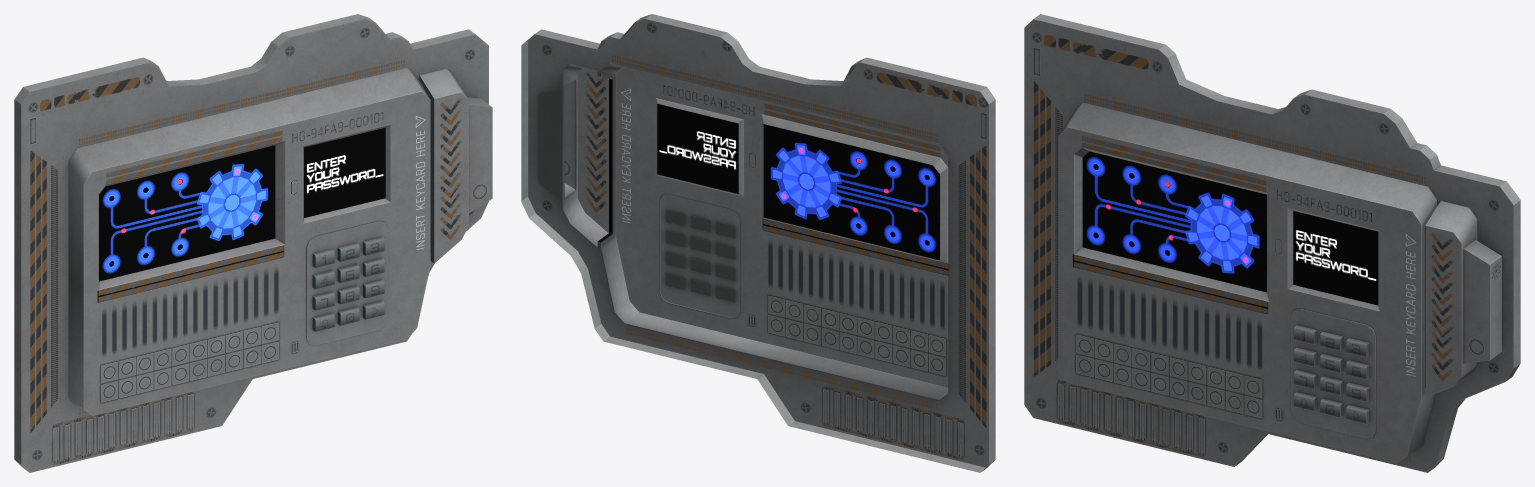
Rendered from Lock07_Lock.glb.
The picture shows the model from 3 angles, left to right: view 1: azimuth 30°, elevation 25°; view 2: azimuth 150°, elevation 25°; view 3: azimuth 330°, elevation 25°; orthographic projection. The views are drawn at different scales.
Parts seen in each view (by area): view 1: Plane_013; view 2: Plane_013; view 3: Plane_013.
Part boxes in pixels (<box>): Plane_013: <box>14,14,492,472</box>; Plane_013: <box>521,14,995,472</box>; Plane_013: <box>1024,14,1520,472</box>.
Bounding box in the file's own units: 0.7472 × 0.5819 × 0.0695.
1 material, 1 textured.
